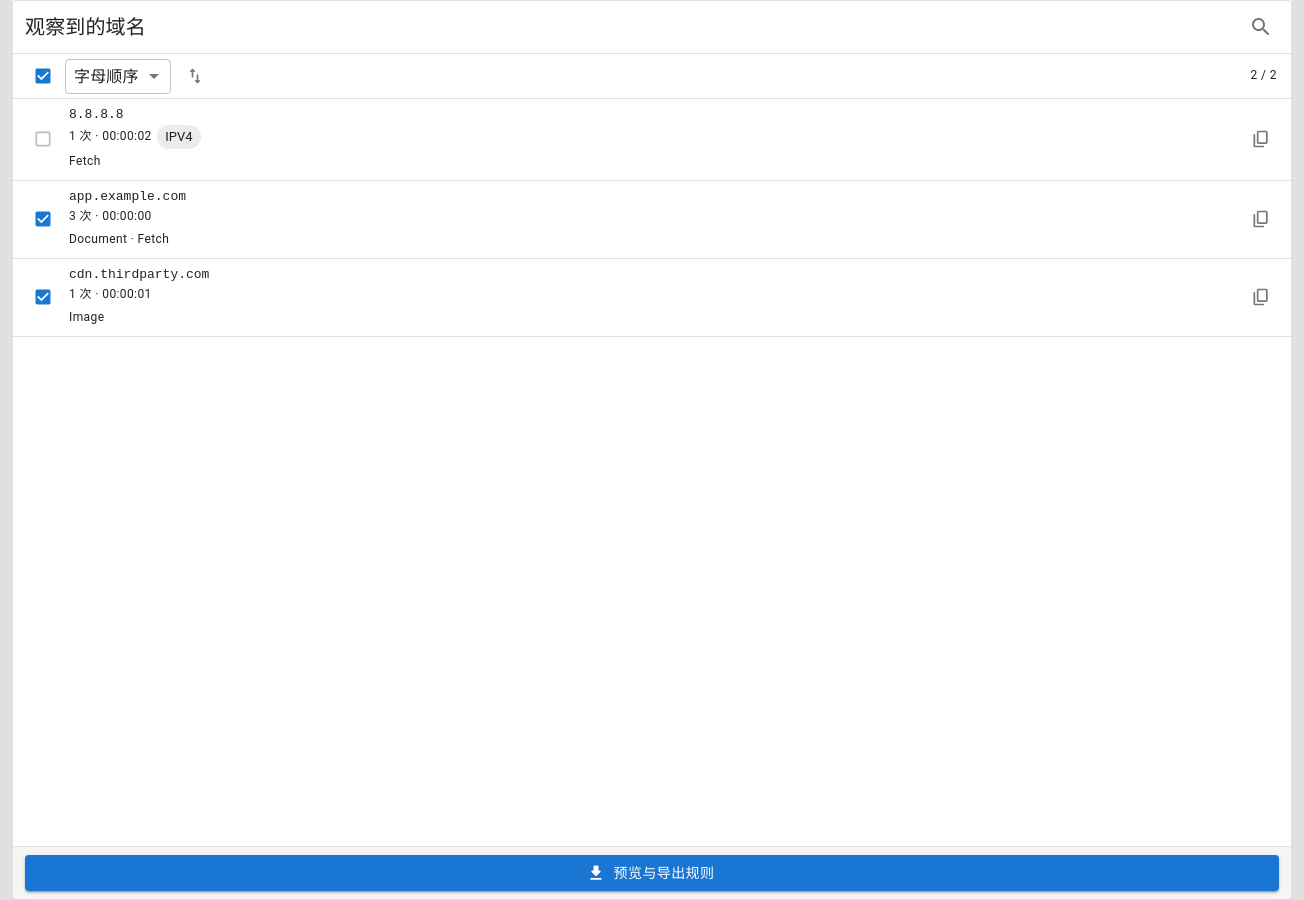
Test case: 观察域名面板 › 由标题右侧展开搜索，按 Escape 关闭并重设筛选
Expected: the field labelled "搜索域名" is not shown
Click the button named "搜索域名" at (1261, 27), box [1239,5,1283,49]
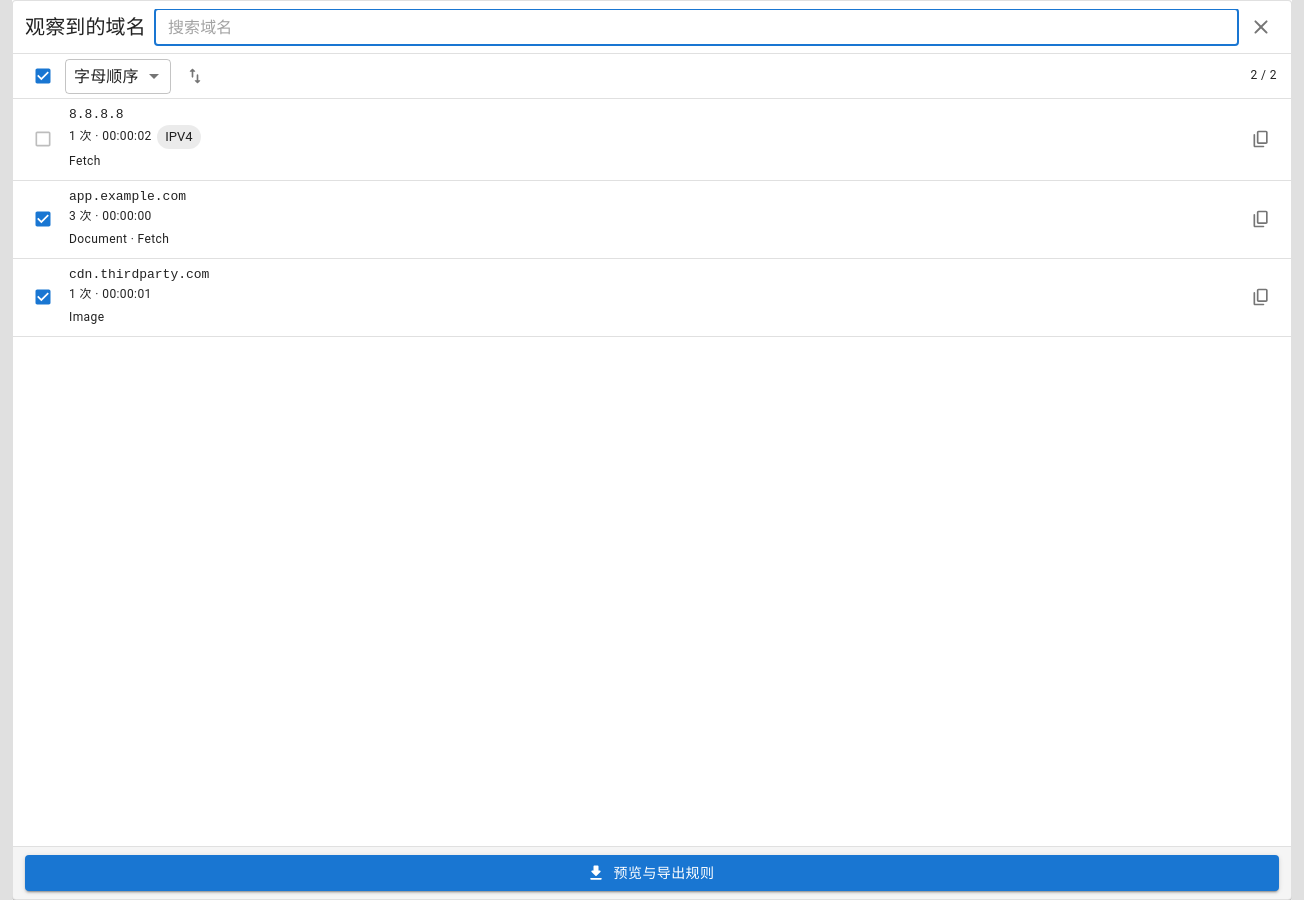
Expected: the button named "搜索域名" is expanded, [1239,5,1283,49]
Type "missing" into the field labelled "搜索域名" at (696, 27), box [154,8,1239,46]
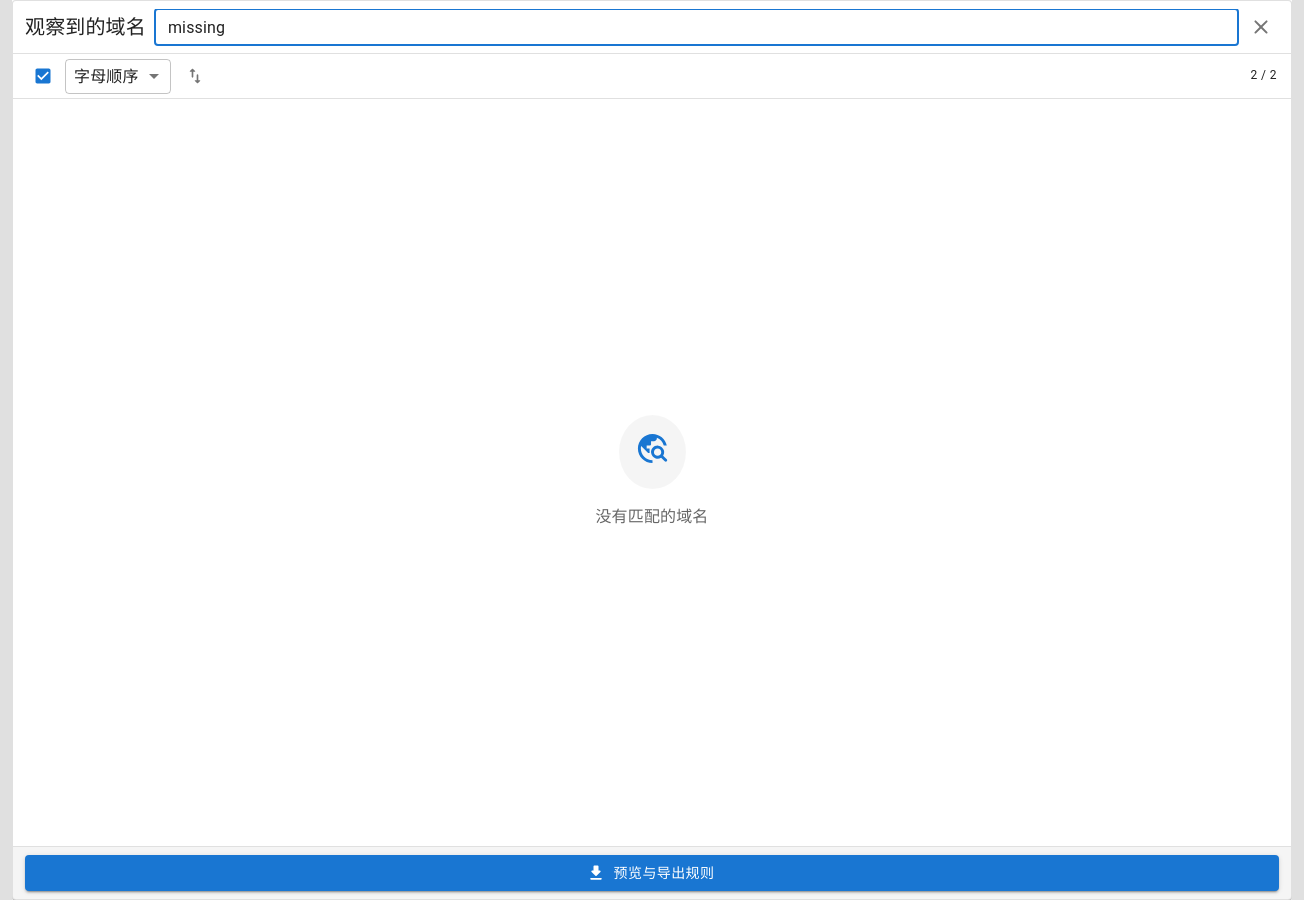
Expected: the text "没有匹配的域名" is shown, [596,505,709,529]
Press Escape in the field named "搜索域名", box [154,8,1239,46]
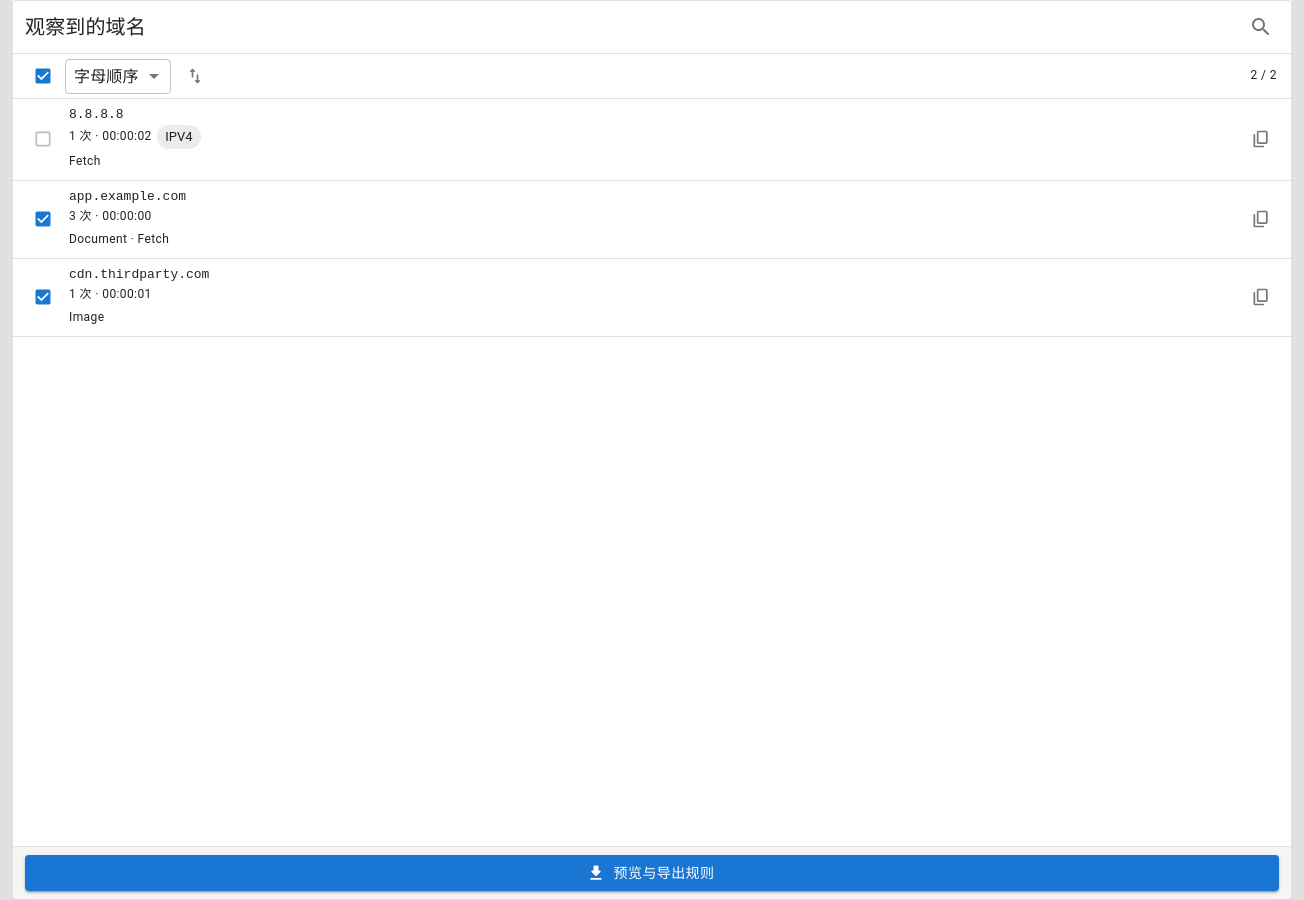
Expected: the button named "搜索域名" is collapsed, [1239,5,1283,49]
Expected: the text "cdn.thirdparty.com" is shown, [69,267,209,282]
